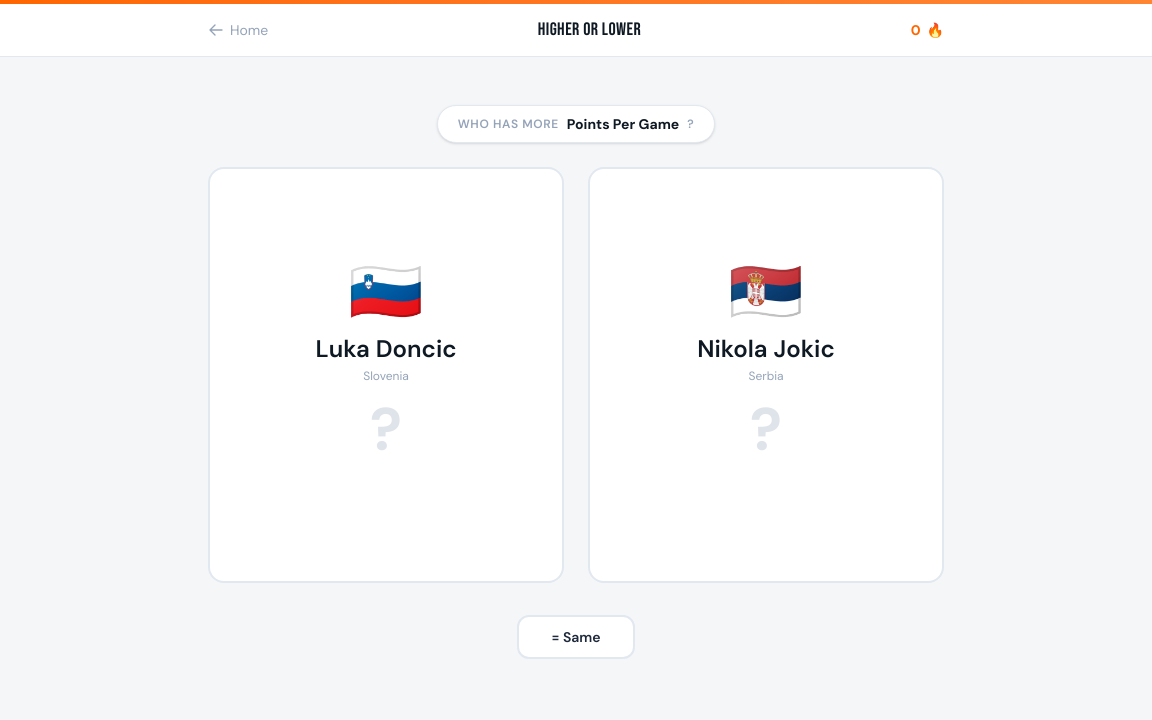
Test: HigherLowerBoard › shows streak count after correct answer
This screenshot has width=1152, height=720.
Click the button "🇸🇮 Luka Doncic Slovenia ?" at (386, 375), box [208, 167, 564, 583]
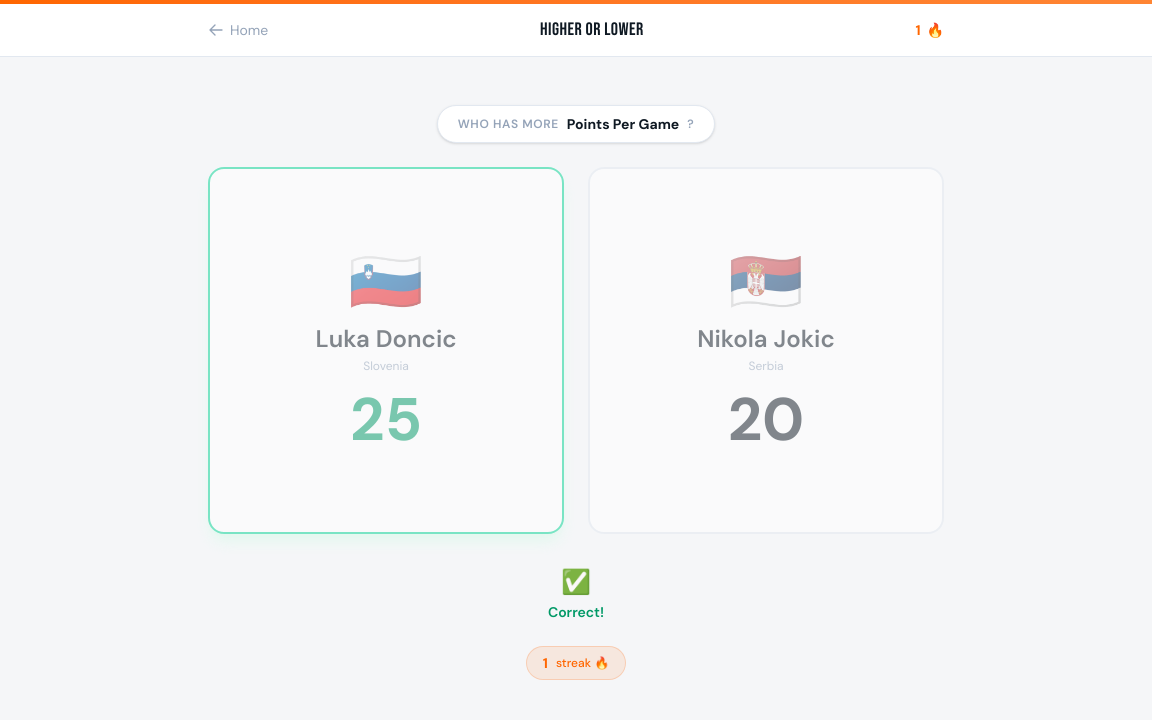
Check: the text "Correct!" is shown, box [548, 602, 604, 622]
